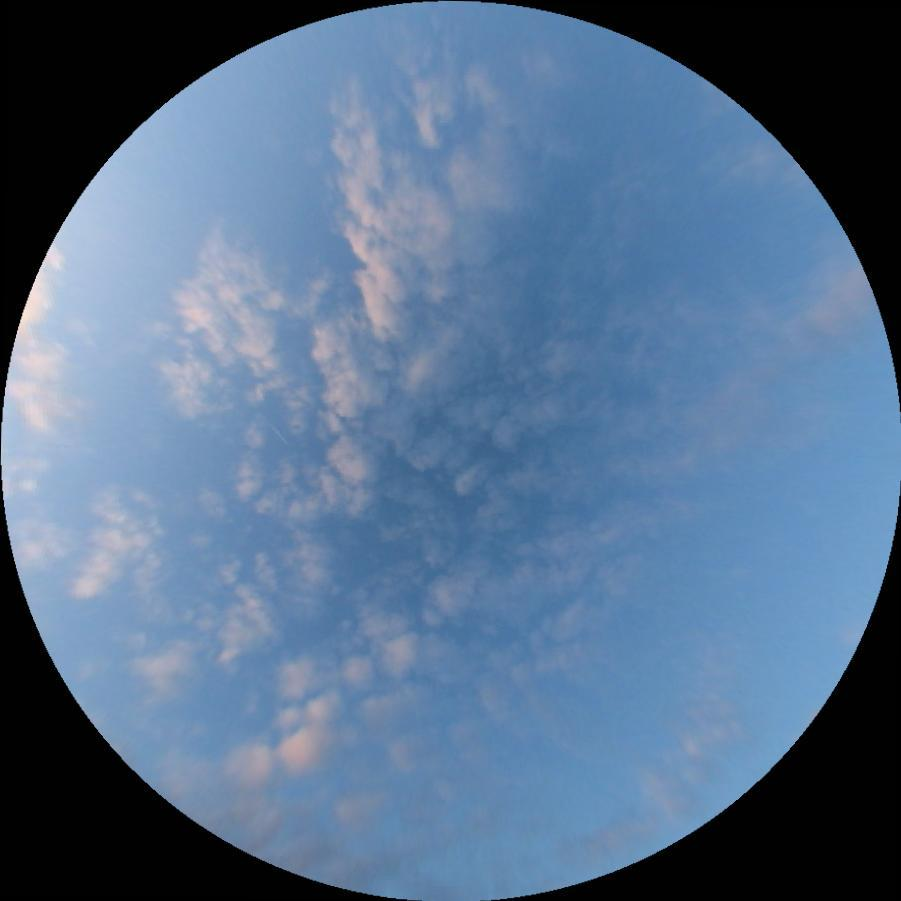contrail young: (264, 419, 290, 445)
